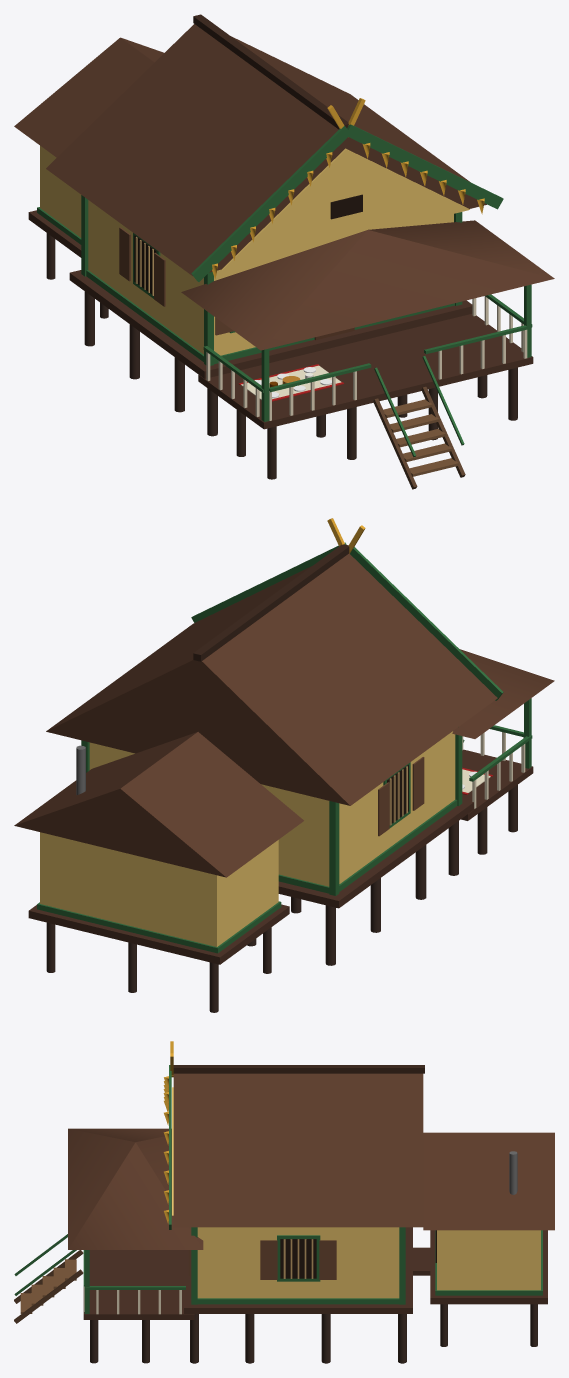
File: rumah-melayu-pontianak.glb
3 views of the same model, one above another, from view 1: azimuth 30°, elevation 25°; view 2: azimuth 150°, elevation 25°; view 3: azimuth 270°, elevation 25° (orthographic). The views are drawn at different scales.
Visible parts, largest first — view 1: atapInduk, atapSerambi, RumahMelayuPontianak, lantaiSerambi, tebeng, dindingInduk, atapDapur, lantaiInduk, lisplang (×2), bubungan, dindingDapur, kainSaprah (+2 smaller); view 2: atapInduk, atapDapur, dindingDapur, RumahMelayuPontianak, dindingInduk, lantaiDapur, atapSerambi, lantaiInduk, lisplang (×2), bubungan, lantaiSerambi; view 3: atapInduk, atapSerambi, atapDapur, RumahMelayuPontianak, dindingInduk, dindingDapur, lantaiSerambi, lantaiInduk, bubungan, lantaiDapur, selang, lisplang (+1 smaller).
Boxes of the visible parts, x1,y1,x2,y2 form: atapInduk: (46, 24, 486, 275); atapSerambi: (181, 220, 554, 350); RumahMelayuPontianak: (37, 98, 532, 479); lantaiSerambi: (198, 314, 533, 429); tebeng: (221, 148, 469, 270); dindingInduk: (88, 200, 453, 355); atapDapur: (14, 37, 163, 157); lantaiInduk: (69, 270, 472, 378); lisplang (×2): (191, 124, 503, 281); bubungan: (193, 14, 348, 129); dindingDapur: (40, 146, 81, 237); kainSaprah: (241, 365, 341, 399); atapInduk: (46, 553, 497, 805); atapDapur: (14, 732, 303, 877); dindingDapur: (40, 832, 278, 946); RumahMelayuPontianak: (37, 518, 532, 1012); dindingInduk: (89, 731, 455, 886); lantaiDapur: (28, 904, 289, 964); atapSerambi: (452, 649, 554, 738); lantaiInduk: (278, 799, 473, 908); lisplang (×2): (191, 542, 503, 700); bubungan: (193, 544, 349, 661); lantaiSerambi: (461, 749, 533, 820); atapInduk: (173, 1073, 423, 1227); atapSerambi: (68, 1128, 203, 1249); atapDapur: (423, 1132, 554, 1230); RumahMelayuPontianak: (14, 1053, 542, 1363); dindingInduk: (197, 1227, 399, 1298); dindingDapur: (437, 1230, 540, 1290); lantaiSerambi: (83, 1250, 194, 1319); lantaiInduk: (184, 1227, 412, 1313); bubungan: (173, 1065, 424, 1073); lantaiDapur: (430, 1230, 547, 1304); selang: (413, 1247, 430, 1275); lisplang: (169, 1067, 171, 1229).
Bounding box in the file's own units: 0.4386 × 0.4232 × 0.7804.
